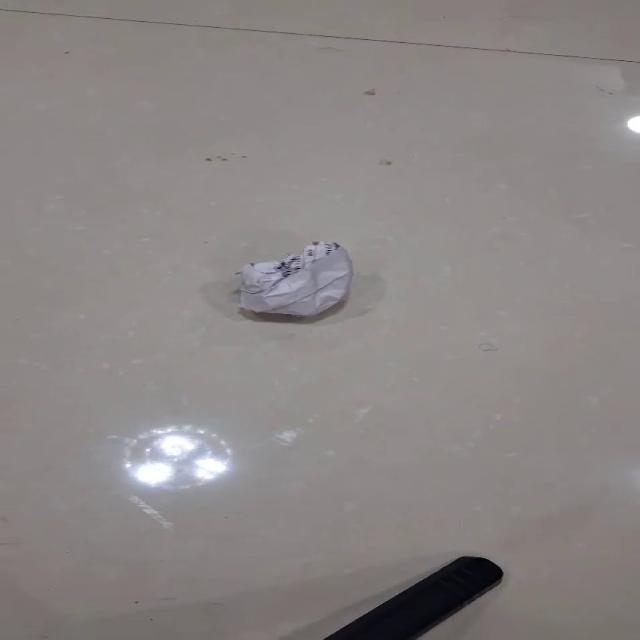paper: (234, 240, 352, 317)
